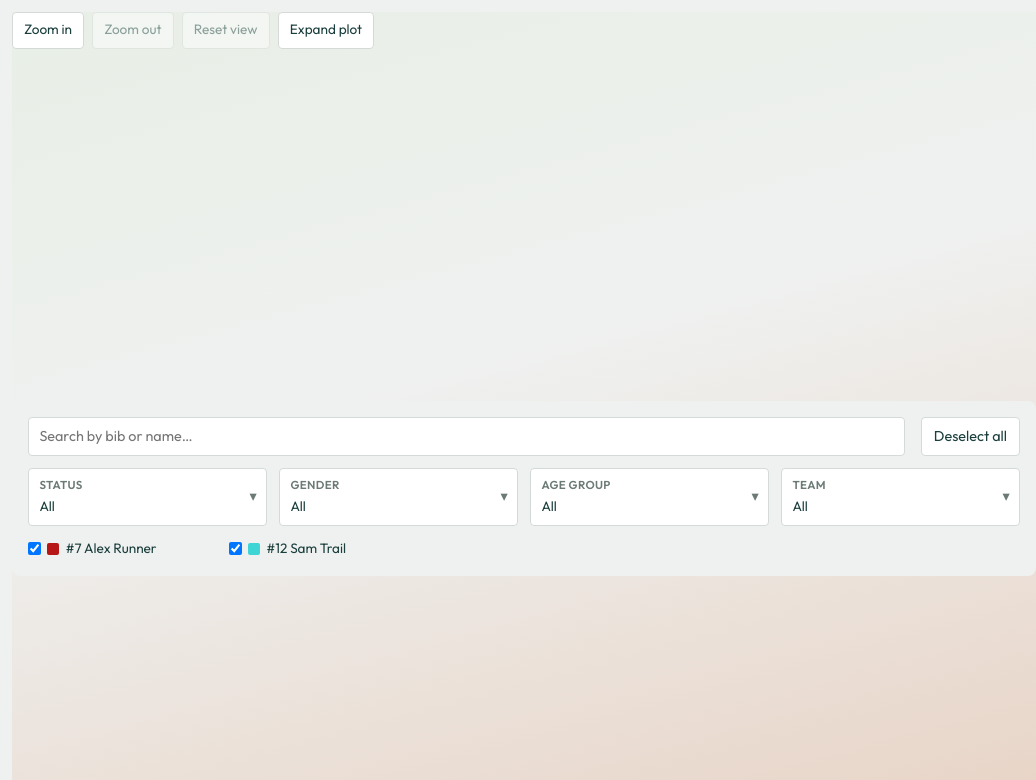
Test: RaceFlowChart.vue › select all toggles visibility for filtered participants
Click the button with test id "race-flow-select-all". click: (970, 436)
box: [921, 416, 1020, 456]
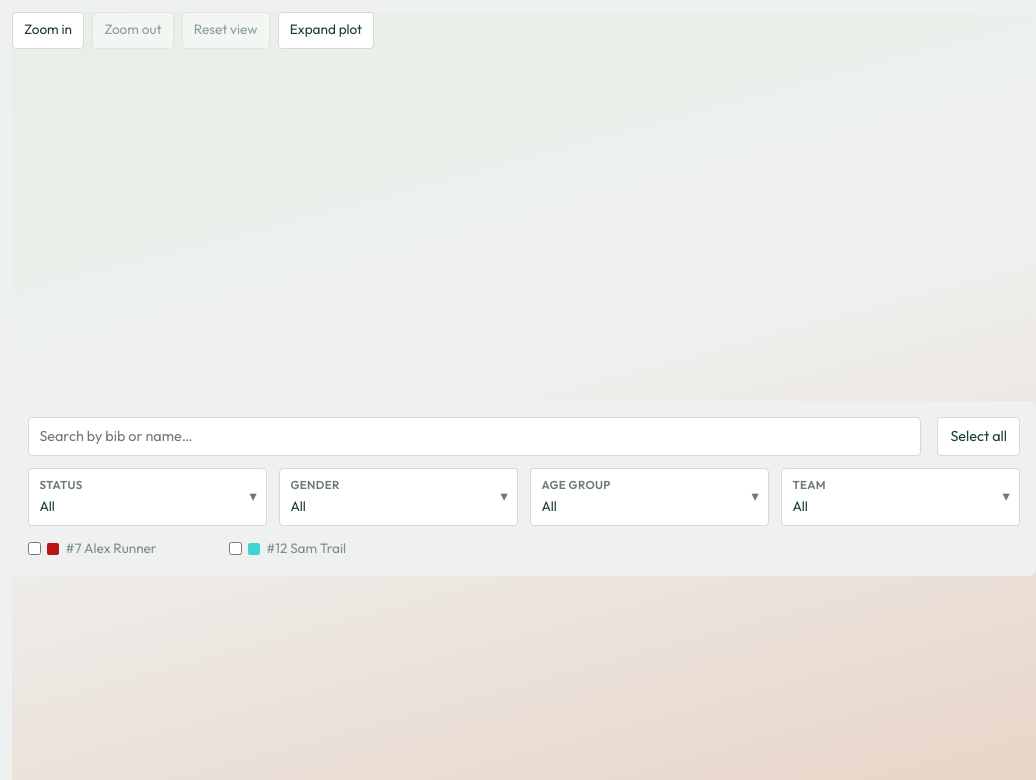
Now the button with test id "race-flow-select-all" reads "Select all", box [938, 416, 1020, 456]
